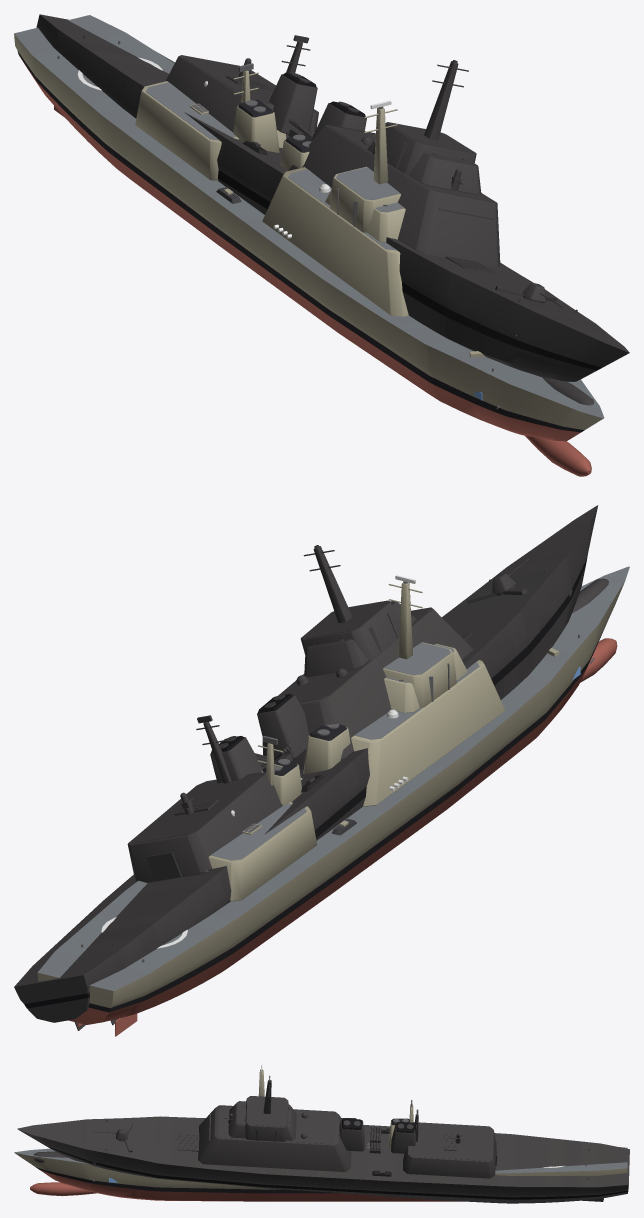
Rendered from destroyer__atago_class.glb.
3 views of the same model, one above another, from view 1: azimuth 30°, elevation 25°; view 2: azimuth 150°, elevation 25°; view 3: azimuth 270°, elevation 25° (orthographic). The views are drawn at different scales.
Parts seen in each view (by area): view 1: Hull_Mesh, Wreck; view 2: Hull_Mesh, Wreck; view 3: Wreck, Hull_Mesh.
Boxes of the visible parts, bbox=[...] form: Hull_Mesh: bbox=[14, 15, 604, 476]; Wreck: bbox=[36, 14, 629, 405]; Hull_Mesh: bbox=[37, 566, 629, 1036]; Wreck: bbox=[14, 505, 608, 1030]; Wreck: bbox=[17, 1075, 629, 1203]; Hull_Mesh: bbox=[14, 1070, 627, 1201].
Size of what is drawn, in the model's own units: 27.53 by 42.91 by 173.
